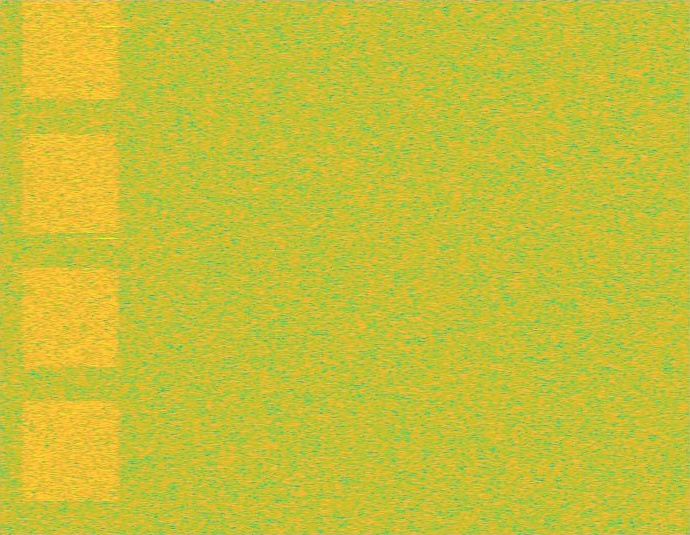5G: (19, 0, 123, 534)
Radar: (101, 0, 114, 534)
